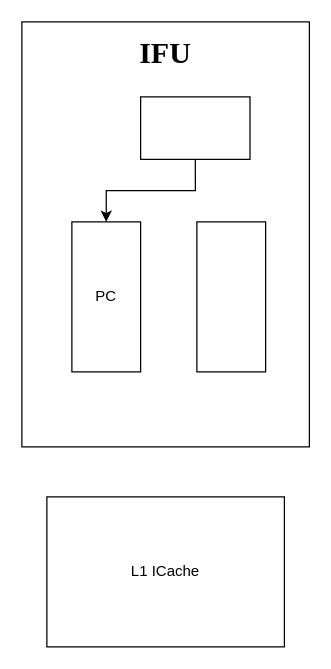
The diagram is 331 pixels wide and 669 high, and some of its shapes have lost their labels. Here are the shapes that lost their labels. From the top down, the box of each, then its label:
(139, 96, 250, 159): BTFN
(196, 221, 266, 372): Inst
